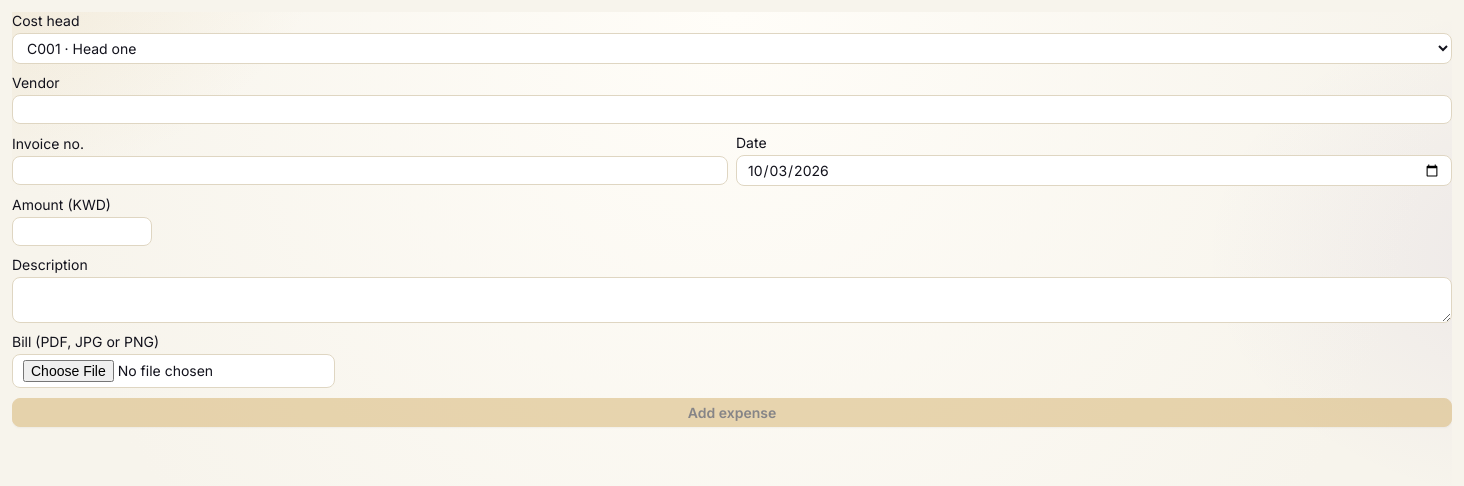
approval of spend past the approval level › never asks for a reason below the approval level
Type "10" into the field labelled "Amount (KWD)".
click(82, 232); type("10")  # box x1=12 y1=217 x2=152 y2=246
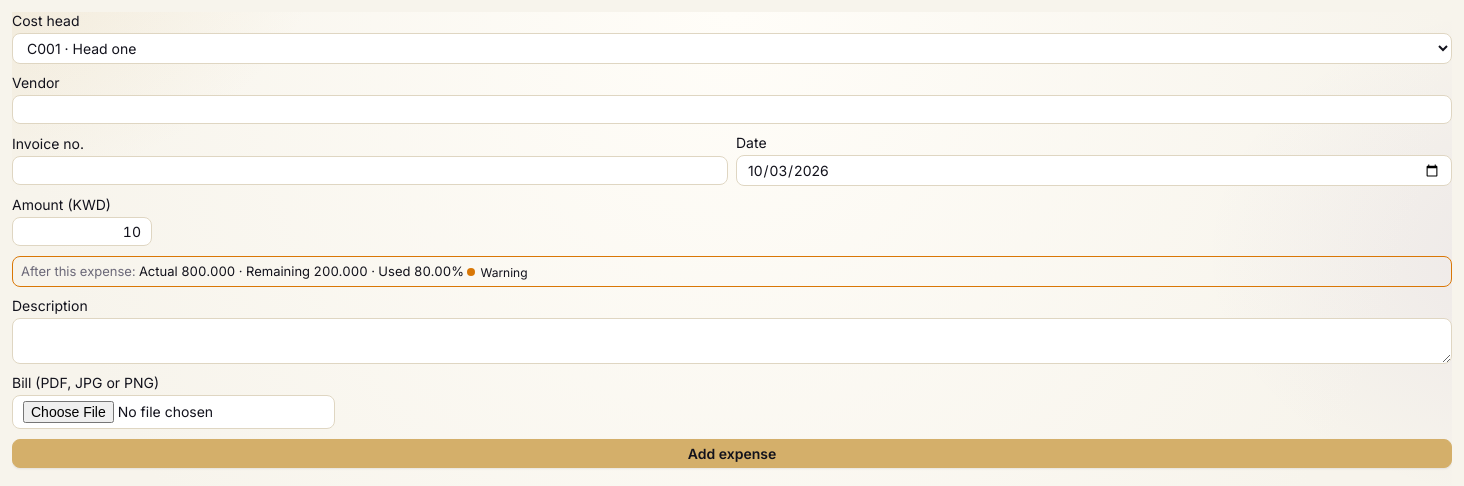
Expected: the button "Add expense" is shown, x1=12 y1=438 x2=1452 y2=468
Result: the message "After this expense" is shown at x1=12 y1=256 x2=1452 y2=286
